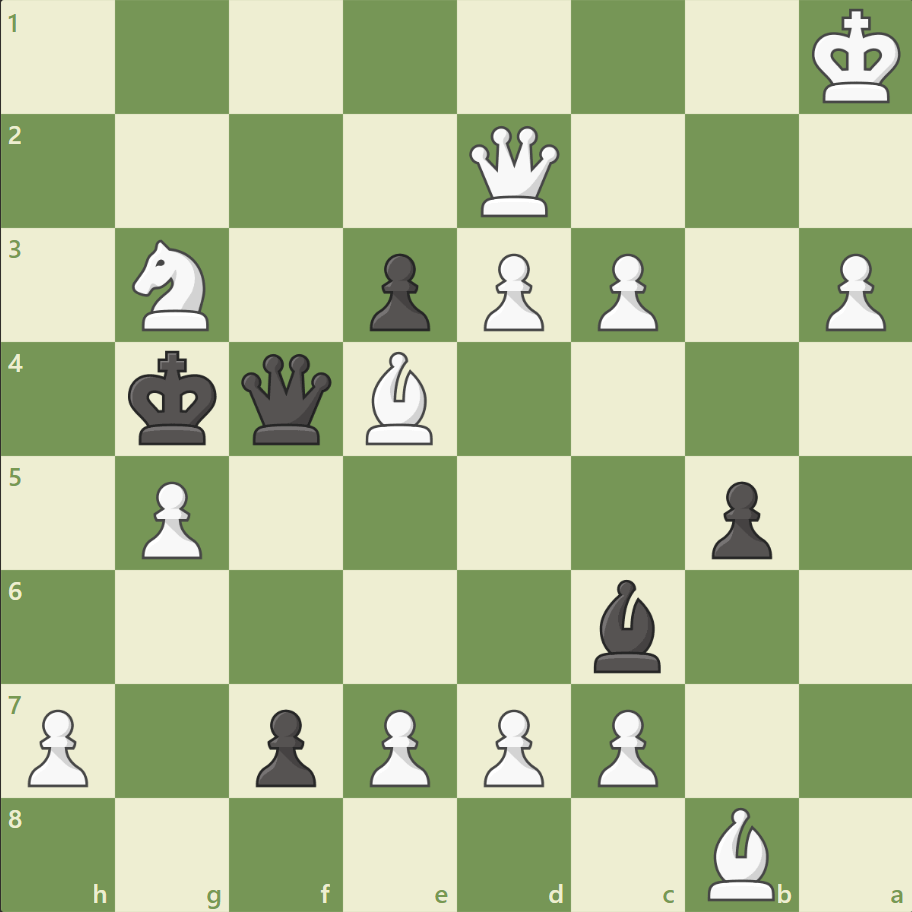B: (698, 801, 782, 904), (358, 347, 442, 449)
K: (806, 4, 906, 112)
N: (124, 234, 222, 337)
P: (474, 700, 549, 791), (20, 700, 95, 791), (133, 473, 208, 564), (474, 246, 549, 337), (588, 700, 662, 791), (361, 700, 435, 791), (815, 246, 889, 337), (588, 246, 662, 337)
Q: (464, 122, 563, 222)
b: (585, 574, 669, 676)
k: (124, 344, 224, 452)
p: (247, 700, 322, 791), (701, 473, 776, 564), (361, 246, 435, 337)
q: (237, 349, 336, 449)
